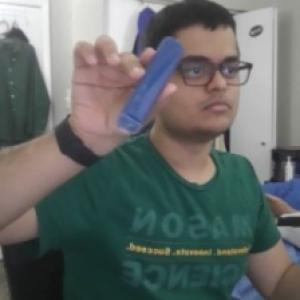Diamond-E-Ciggirate: (114, 34, 185, 136)
